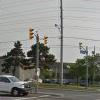Tree: (10, 37, 57, 69)
